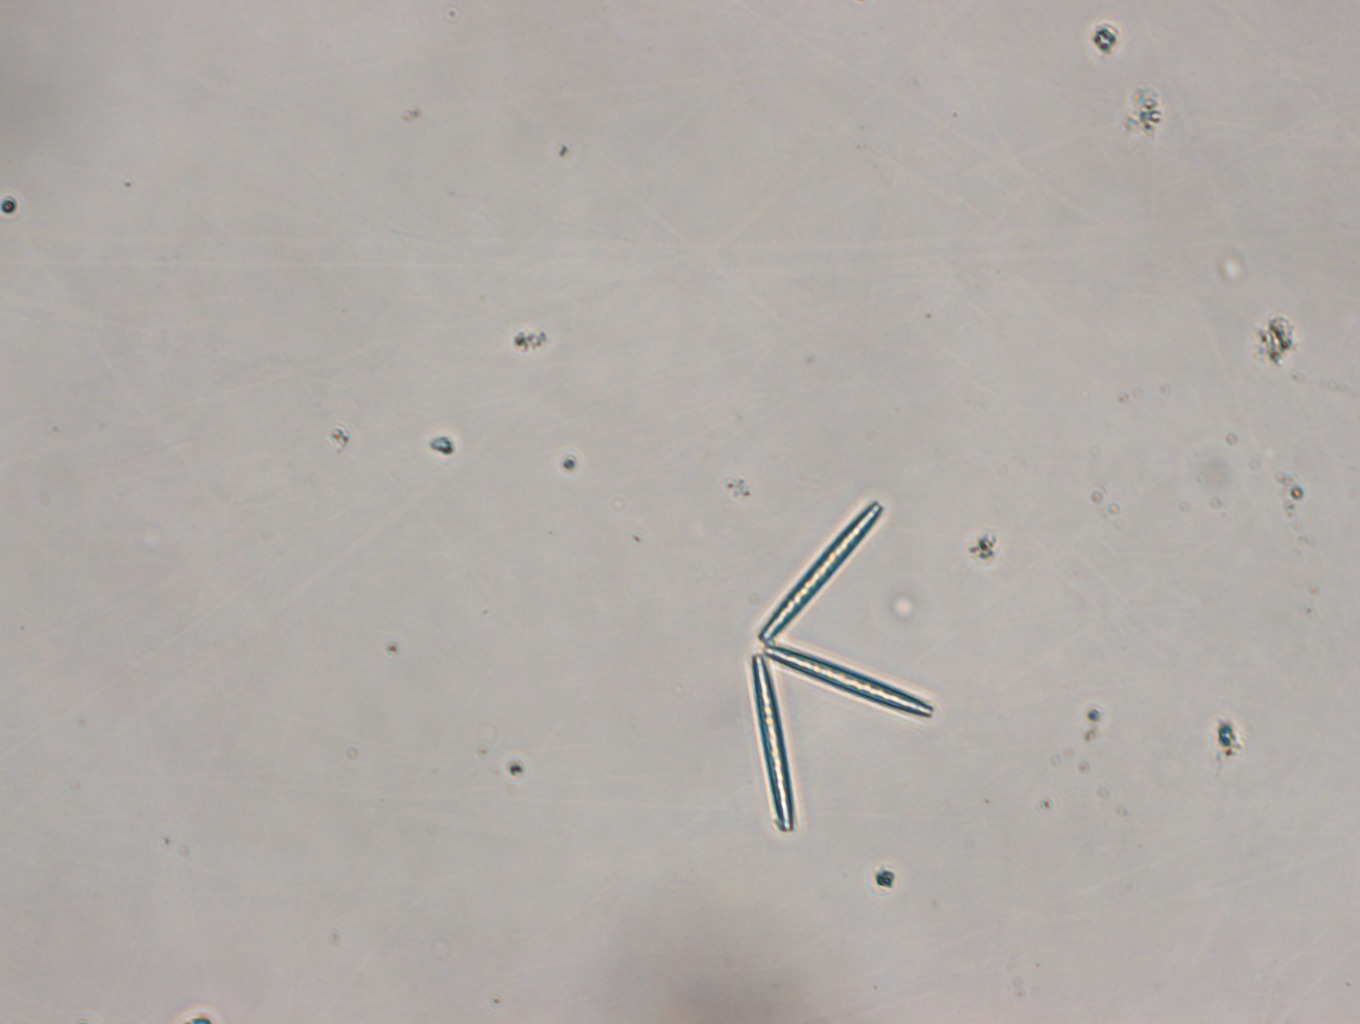thalassionema nitzschioides: (741, 498, 936, 844)
